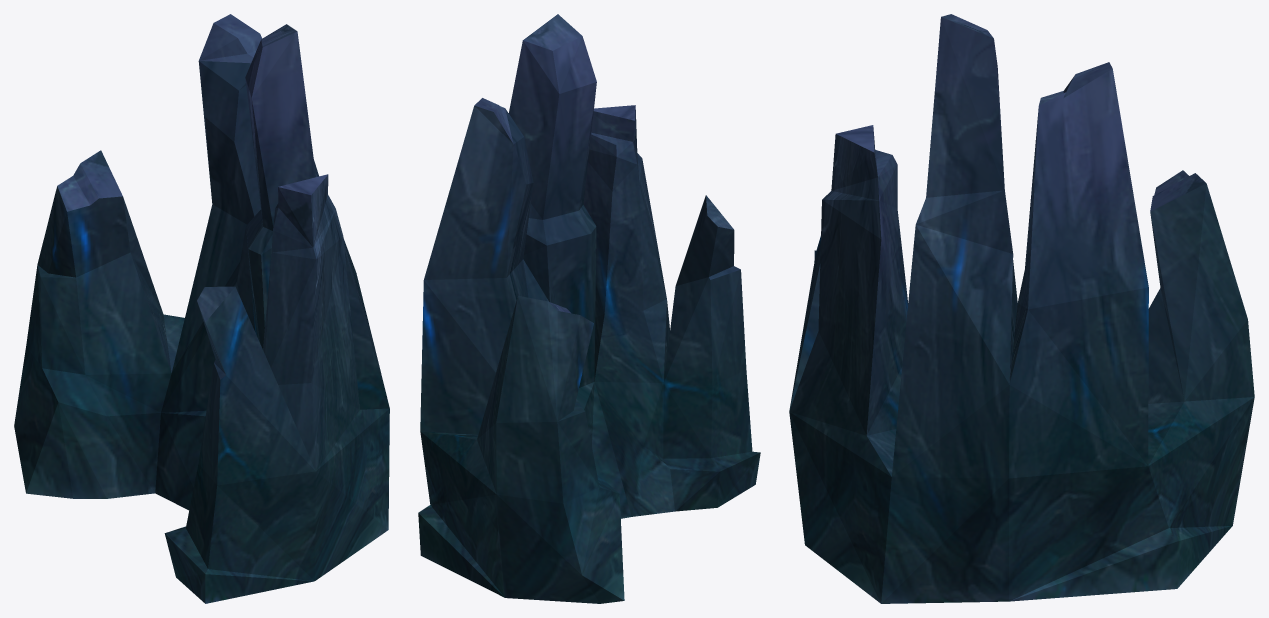
Rendered from h5_shibian_e.FBX.
3 renders of one model, left to right at view 1: azimuth 30°, elevation 25°; view 2: azimuth 150°, elevation 25°; view 3: azimuth 270°, elevation 25°, orthographic. The views are drawn at different scales.
Parts seen in each view (by area): view 1: h5_shibian_e; view 2: h5_shibian_e; view 3: h5_shibian_e.
Part boxes in pixels (x1,y1,x2,y2): h5_shibian_e: [14, 14, 389, 603]; h5_shibian_e: [418, 14, 760, 603]; h5_shibian_e: [789, 14, 1254, 603].
Size of the model in its own units: 9.28 by 16.76 by 12.8.
1 material, 1 textured.
